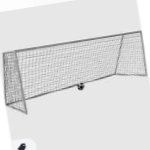goals: (2, 30, 150, 115)
